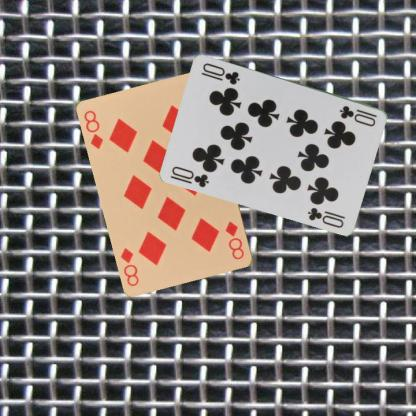10c: (169, 163, 211, 188), (337, 103, 378, 128)
8d: (82, 108, 105, 151), (223, 218, 245, 262)
